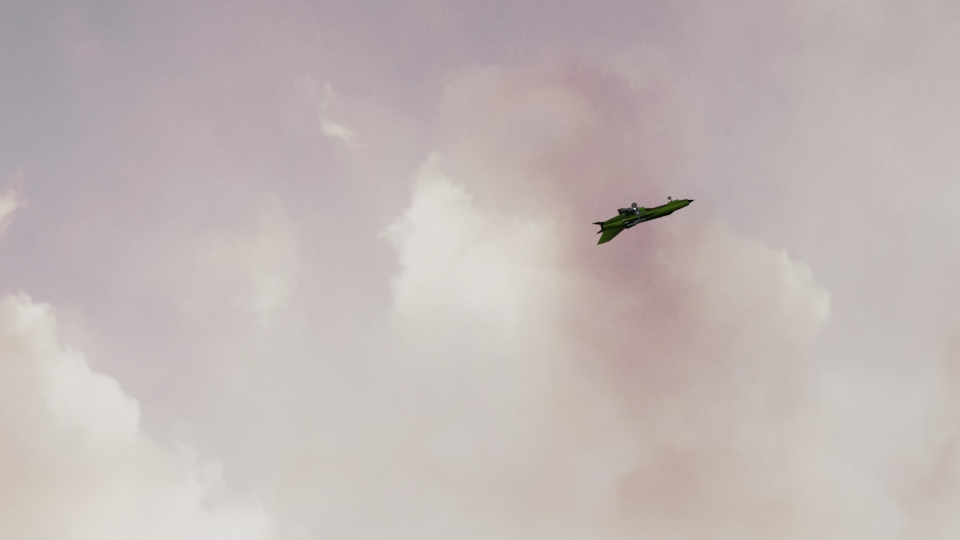plane: (591, 193, 694, 246)
